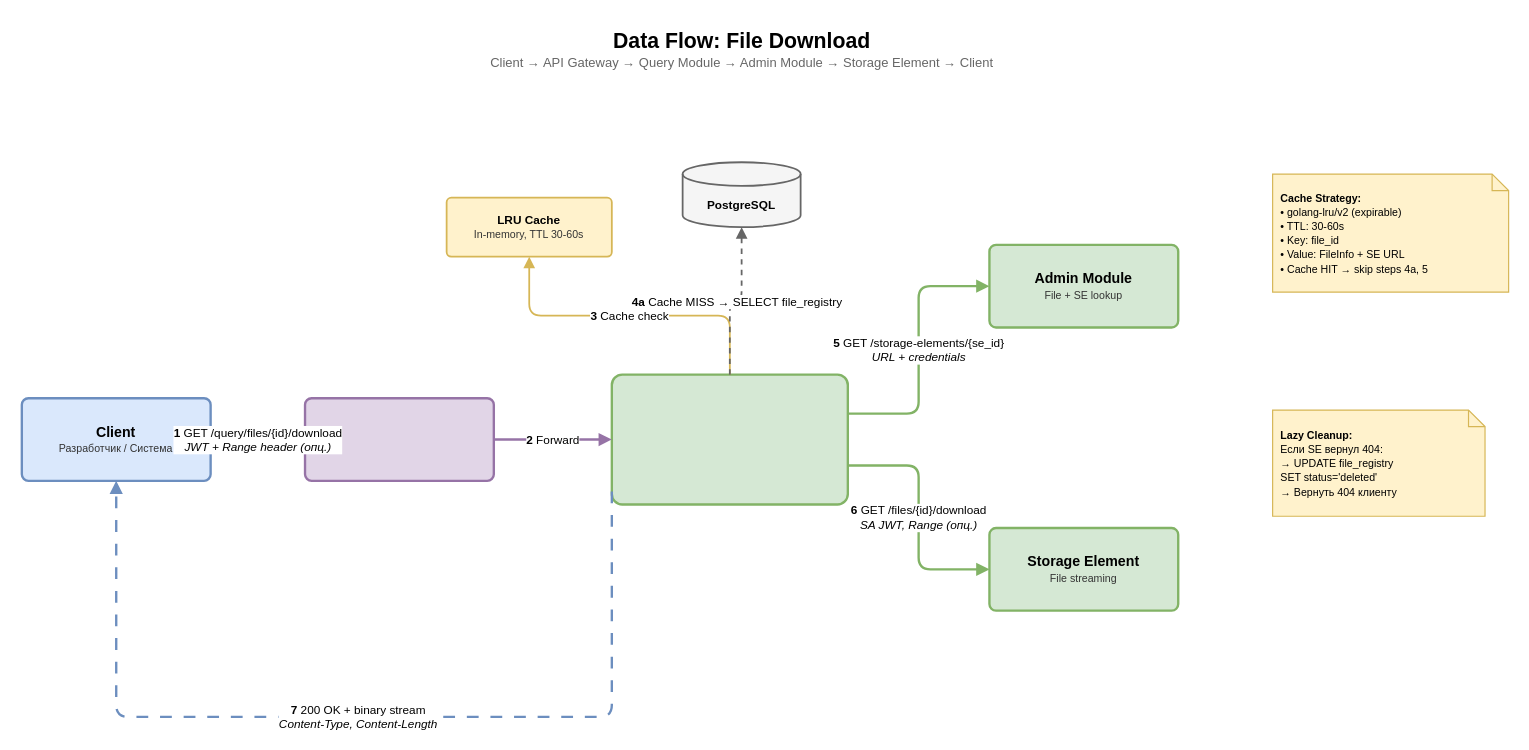
Image size: 1529x750. Some labels were removed from this diagram. Each missing label, with the centre of its shape:
"API Gateway Envoy, TLS, JWT" belongs at (398,438).
"Query Module LRU cache, proxy download Range requests, lazy cleanup" belongs at (729,439).
